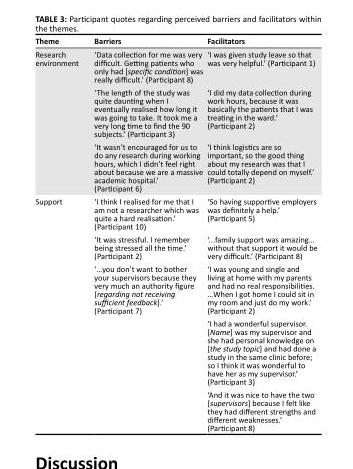table: (34, 35, 316, 432)
table column: (85, 35, 204, 432), (204, 35, 316, 432), (34, 35, 85, 432)
table column header: (34, 35, 316, 47)
table row: (34, 317, 316, 388), (34, 85, 316, 140), (34, 140, 316, 195), (34, 262, 316, 317), (34, 388, 316, 432), (34, 47, 316, 85), (34, 195, 316, 232), (34, 232, 316, 262), (34, 35, 316, 47)
table spanning cell: (34, 195, 85, 432), (34, 47, 85, 195)
